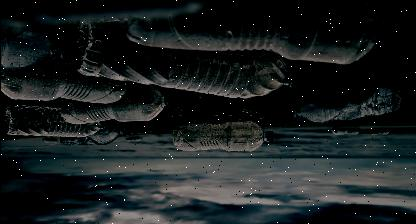Plastic Bottle: (73, 16, 300, 97), (122, 0, 400, 64), (288, 80, 404, 124), (57, 84, 175, 124), (3, 100, 110, 138), (168, 118, 276, 152), (0, 19, 68, 67)
